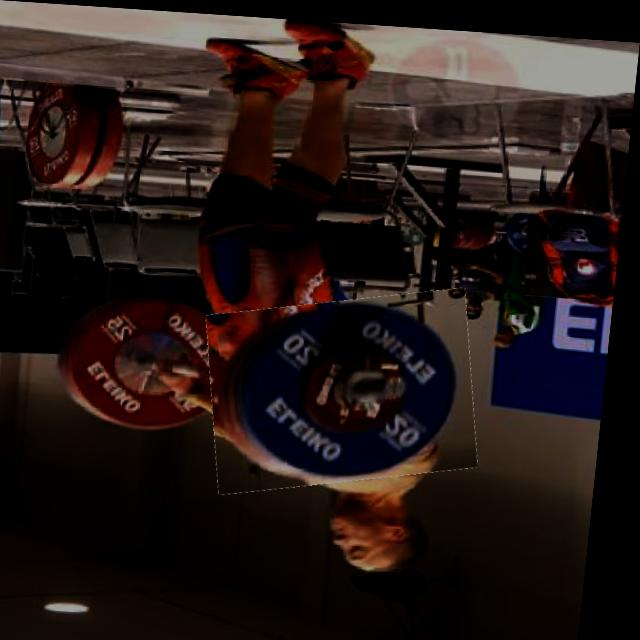barbell: (207, 279, 495, 495)
